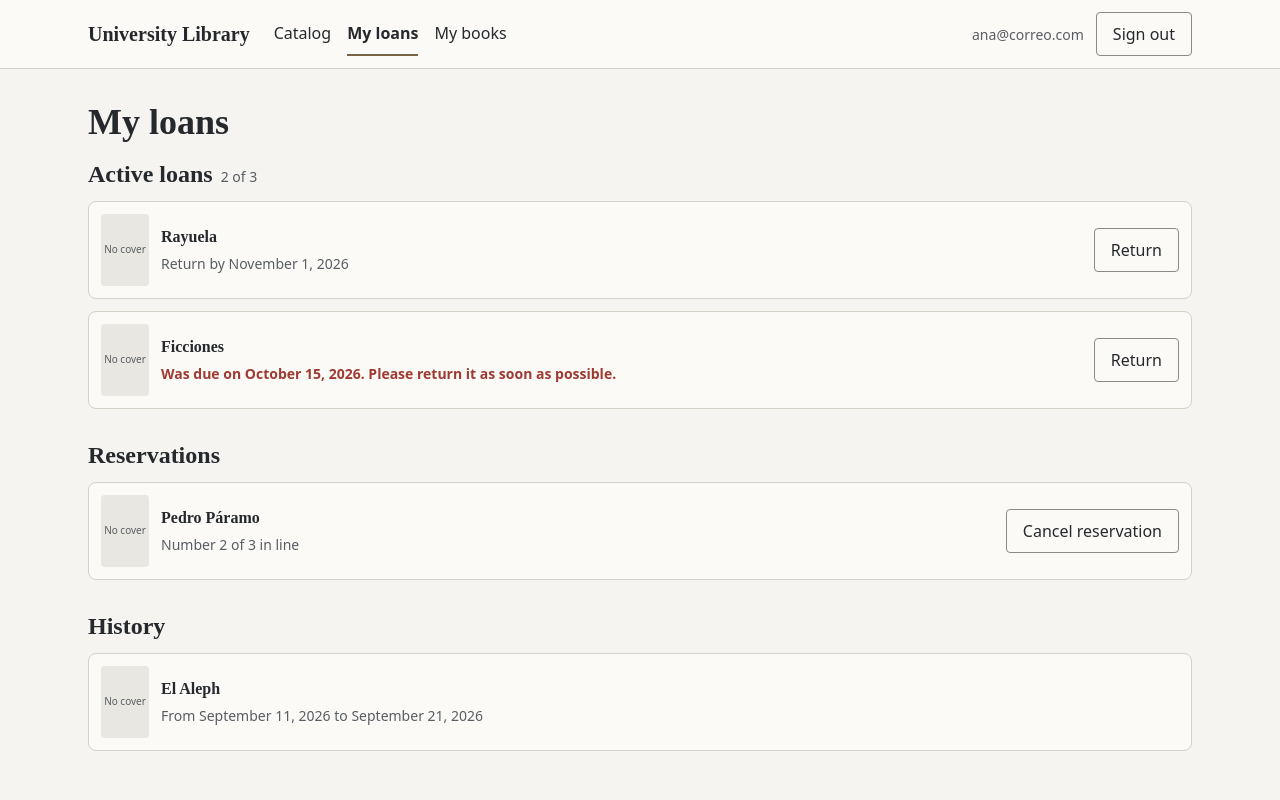
it: Mis préstamos (integración) › al devolver, el libro pasa al historial y el foco vuelve al título
The width and height of the screenshot is (1280, 800).
Click the button with aria-label "Return Ficciones": [1136, 360] box [1094, 338, 1179, 382]
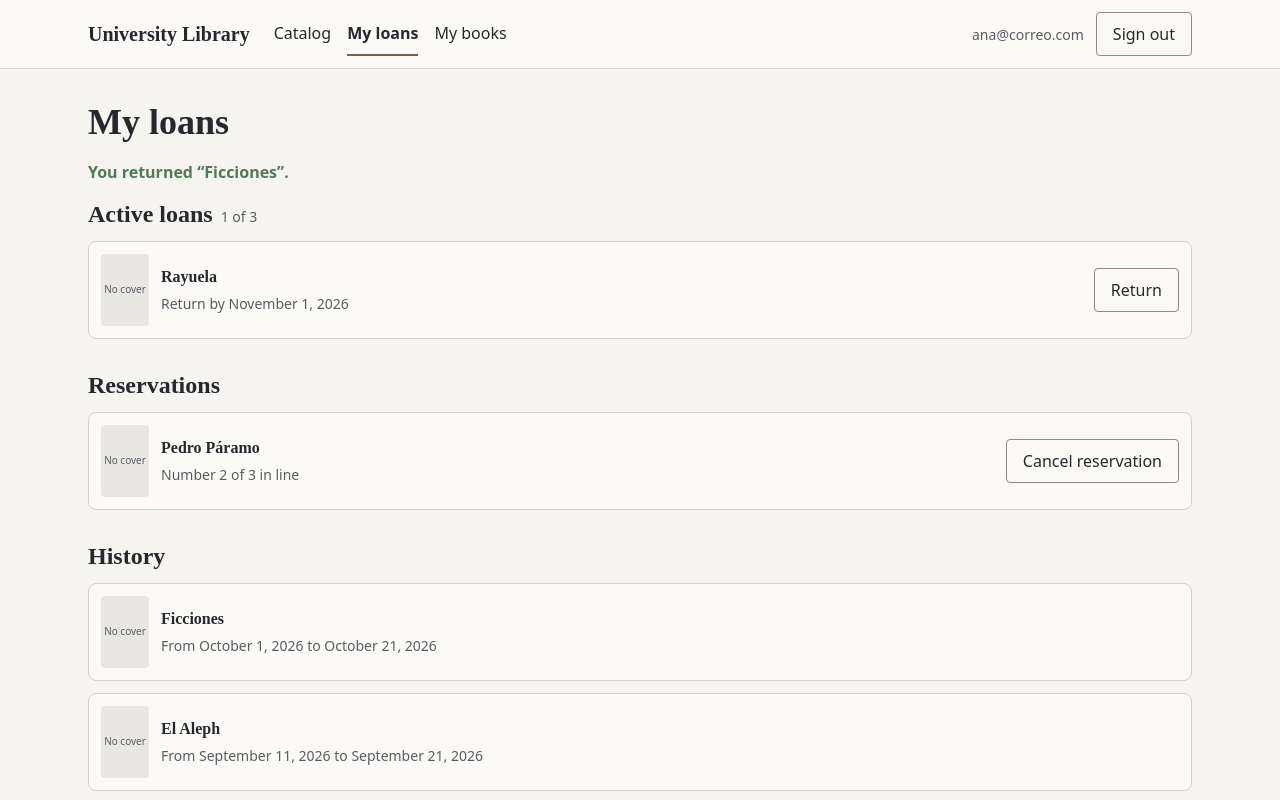
Expected: the link "Ficciones" is shown, [161, 610, 224, 627]
Expected: the text "You returned “Ficciones”." is shown, [88, 161, 289, 183]
Expected: the text "1 of 3" is shown, [221, 209, 257, 226]
